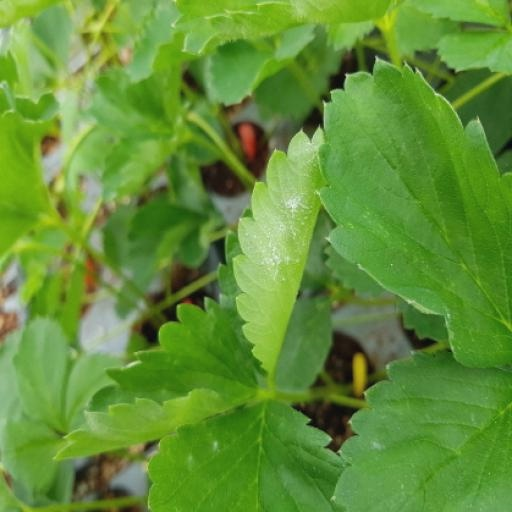Powdery Mildew Leaf: (0, 345, 182, 511), (185, 123, 294, 384), (162, 395, 366, 511)
